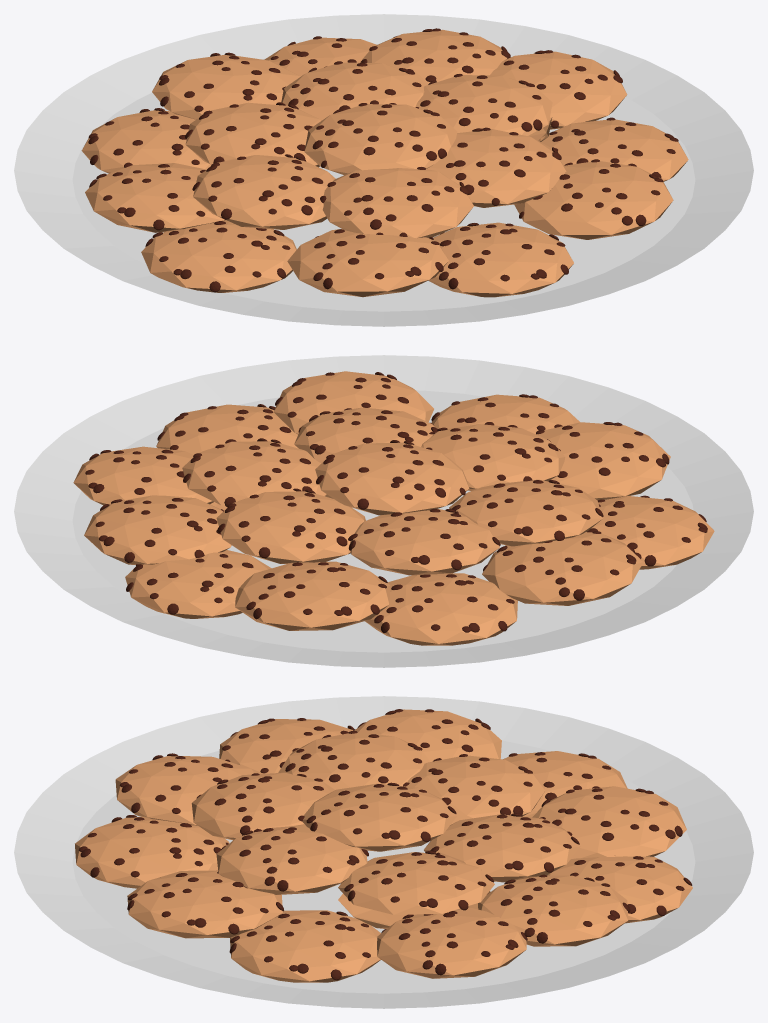
The model's file is cookies.fbx.
3 renders of one model, top to bottom at view 1: azimuth 30°, elevation 25°; view 2: azimuth 150°, elevation 25°; view 3: azimuth 270°, elevation 25°, orthographic.
Visible parts, largest first — view 1: prato, cookie.031, cookie.007, cookie.035, cookie.009, cookie.027, cookie.001, cookie.003, cookie.033, cookie.011, cookie.015, cookie.029 (+8 smaller); view 2: prato, cookie.035, cookie.011, cookie.015, cookie.013, cookie.023, cookie.017, cookie.003, cookie.029, cookie.027, cookie.025, cookie.021 (+9 smaller); view 3: prato, cookie.005, cookie.015, cookie.019, cookie.001, cookie.007, cookie.017, cookie.033, cookie.035, cookie.025, cookie.023, cookie.031 (+9 smaller).
Part boxes in pixels (x1,y1,x2,y2): prato: (14, 14, 753, 326); cookie.031: (322, 168, 473, 238); cookie.007: (514, 161, 673, 234); cookie.035: (304, 104, 457, 173); cookie.009: (141, 220, 296, 290); cookie.027: (193, 155, 335, 226); cookie.001: (429, 222, 573, 293); cookie.003: (287, 229, 448, 291); cookie.033: (427, 129, 566, 203); cookie.011: (85, 163, 224, 228); cookie.015: (152, 54, 300, 119); cookie.029: (185, 102, 321, 165); prato: (14, 355, 753, 667); cookie.035: (315, 442, 469, 512); cookie.011: (482, 532, 643, 602); cookie.015: (235, 561, 390, 627); cookie.013: (365, 573, 517, 643); cookie.023: (216, 491, 365, 561); cookie.017: (84, 495, 231, 563); cookie.003: (536, 422, 670, 498); cookie.029: (350, 509, 499, 571); cookie.027: (449, 479, 602, 542); cookie.025: (182, 441, 326, 505); cookie.021: (125, 550, 271, 616); prato: (14, 696, 753, 1008); cookie.005: (230, 910, 380, 981); cookie.015: (532, 786, 686, 858); cookie.019: (377, 907, 526, 975); cookie.001: (75, 817, 229, 885); cookie.007: (127, 870, 282, 934); cookie.017: (478, 875, 628, 944); cookie.033: (216, 824, 367, 891); cookie.035: (302, 783, 456, 846); cookie.025: (338, 852, 494, 914); cookie.023: (424, 814, 580, 876); cookie.031: (191, 772, 334, 837).
Size of the model in its own units: 224 by 26.21 by 224.
